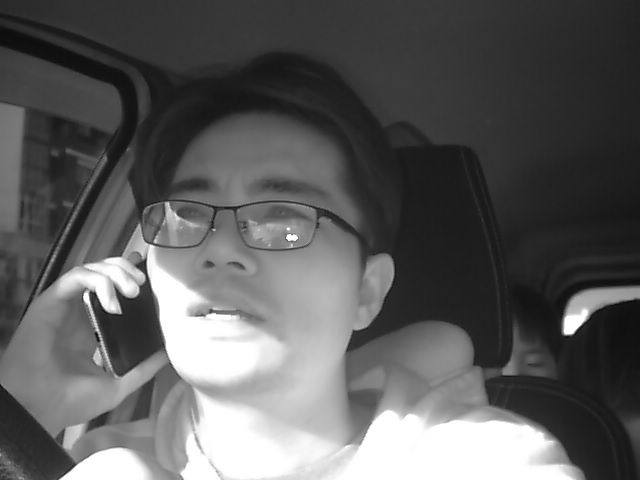hand: (21, 250, 150, 422)
